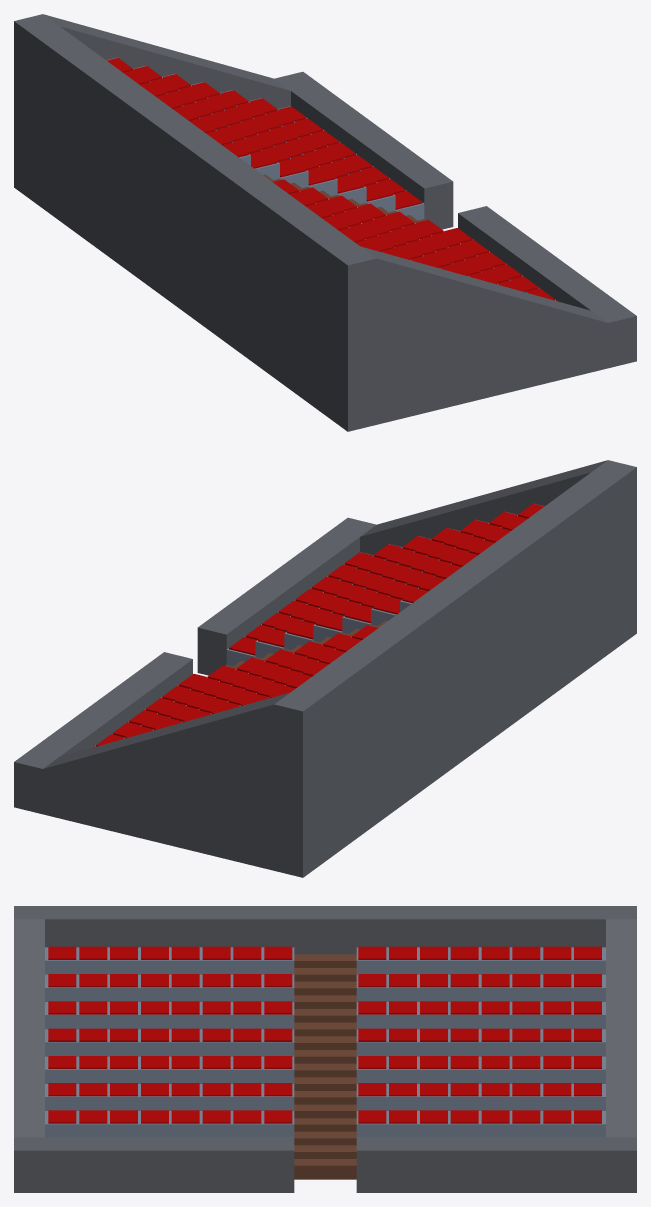
Rendered from Stands.fbx.
3 renders of one model, top to bottom at view 1: azimuth 30°, elevation 25°; view 2: azimuth 150°, elevation 25°; view 3: azimuth 270°, elevation 25°, orthographic. The views are drawn at different scales.
Visible parts, largest first — view 1: Stands; view 2: Stands; view 3: Stands.
Part boxes in pixels (x1=…): Stands: x1=14, y1=14, x2=636, y2=431; Stands: x1=14, y1=460, x2=636, y2=877; Stands: x1=14, y1=906, x2=636, y2=1192.
Size of the model in its own units: 2000 by 1100 by 4000.
